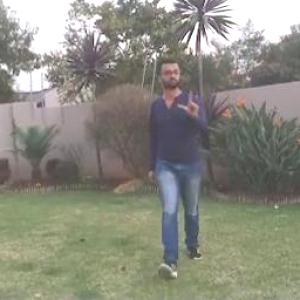land_hand: (177, 81, 206, 122)
